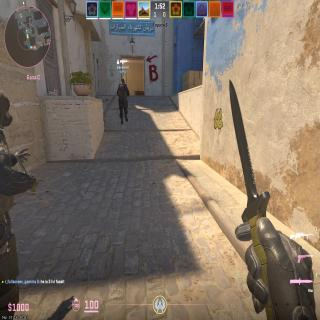CT-Body: (0, 89, 18, 320), (117, 78, 130, 125)
CT-Head: (0, 88, 13, 128), (121, 78, 125, 84)
